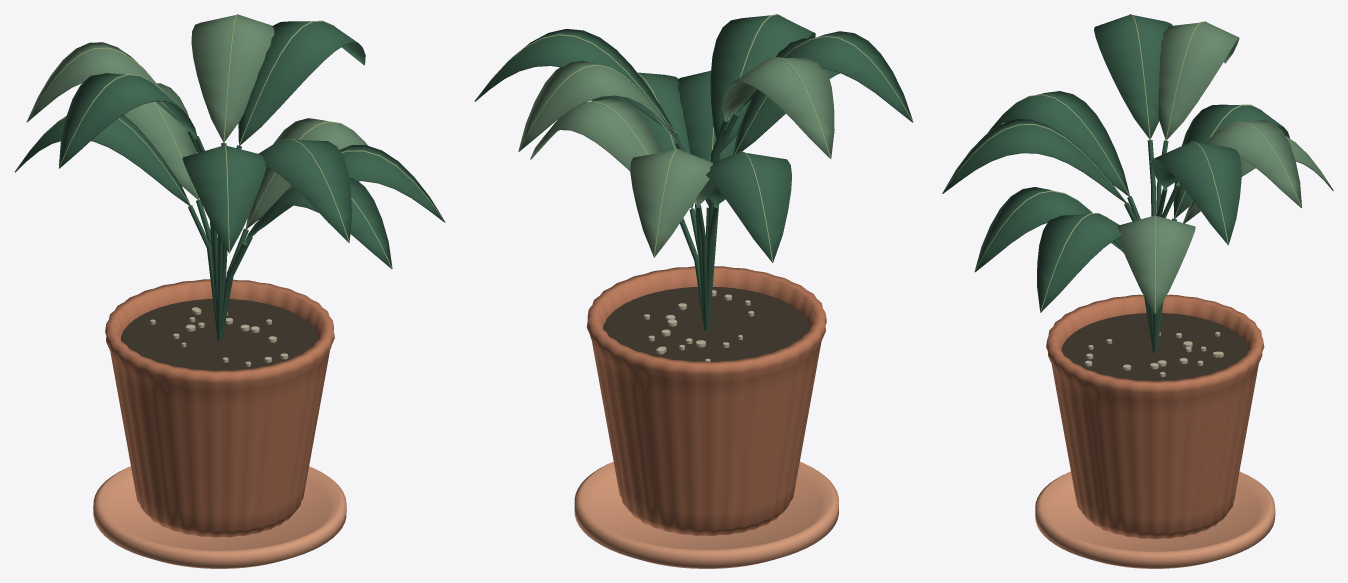
The model's file is rubber_plant.glb.
3 renders of one model, left to right at view 1: azimuth 30°, elevation 25°; view 2: azimuth 150°, elevation 25°; view 3: azimuth 270°, elevation 25°, orthographic. The views are drawn at different scales.
Visible parts, largest first — view 1: Terracotta_clay, Leaf_forest, Leaf_sage, Terracotta_edge, Soil, Leaf_vein, Page_shadow; view 2: Terracotta_clay, Leaf_forest, Leaf_sage, Terracotta_edge, Soil, Leaf_vein, Page_shadow; view 3: Terracotta_clay, Leaf_forest, Leaf_sage, Terracotta_edge, Soil, Leaf_vein, Page_shadow.
Part boxes in pixels (x1,y1,x2,y2): Terracotta_clay: (105, 279, 334, 537); Leaf_forest: (15, 21, 444, 341); Leaf_sage: (26, 15, 367, 229); Terracotta_edge: (93, 466, 346, 568); Soil: (121, 299, 318, 370); Leaf_vein: (15, 14, 444, 267); Page_shadow: (150, 307, 288, 366); Terracotta_clay: (586, 266, 826, 535); Leaf_forest: (474, 15, 913, 330); Leaf_sage: (518, 57, 834, 257); Terracotta_edge: (574, 461, 838, 568); Soil: (603, 287, 810, 361); Leaf_vein: (475, 14, 912, 261); Page_shadow: (644, 290, 754, 361); Terracotta_clay: (1046, 294, 1264, 539); Leaf_forest: (942, 14, 1289, 353); Leaf_sage: (1117, 22, 1333, 314); Terracotta_edge: (1035, 471, 1275, 568); Soil: (1061, 313, 1248, 381); Leaf_vein: (942, 14, 1330, 313); Page_shadow: (1085, 331, 1223, 376).
Bounding box in the file's own units: 0.3842 × 0.487 × 0.3788.
